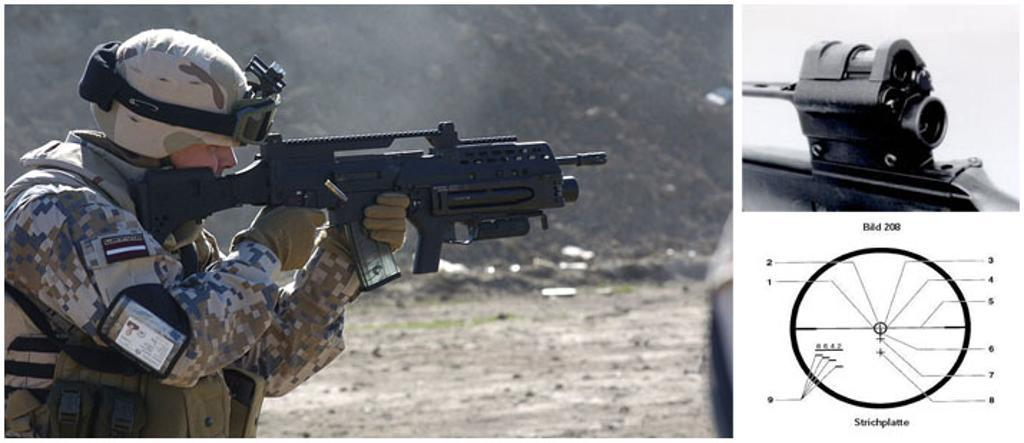face: (175, 105, 243, 201)
